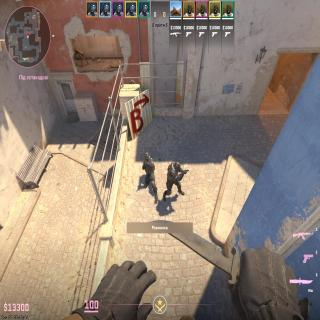CT-Body: (164, 162, 182, 196), (142, 152, 155, 197)
CT-Head: (174, 162, 181, 170), (144, 152, 150, 161)
